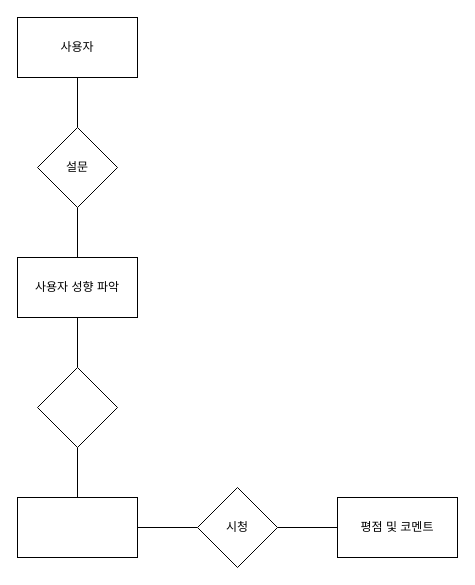
Image size: 475x585. Some labels were removed from this diagram. The centre of each missing label's shape, as x and y in pixels:
"AI 분석" goes at [77,407].
"사용자 성향에 맞는 AI 추천 목록" goes at [77,527].
